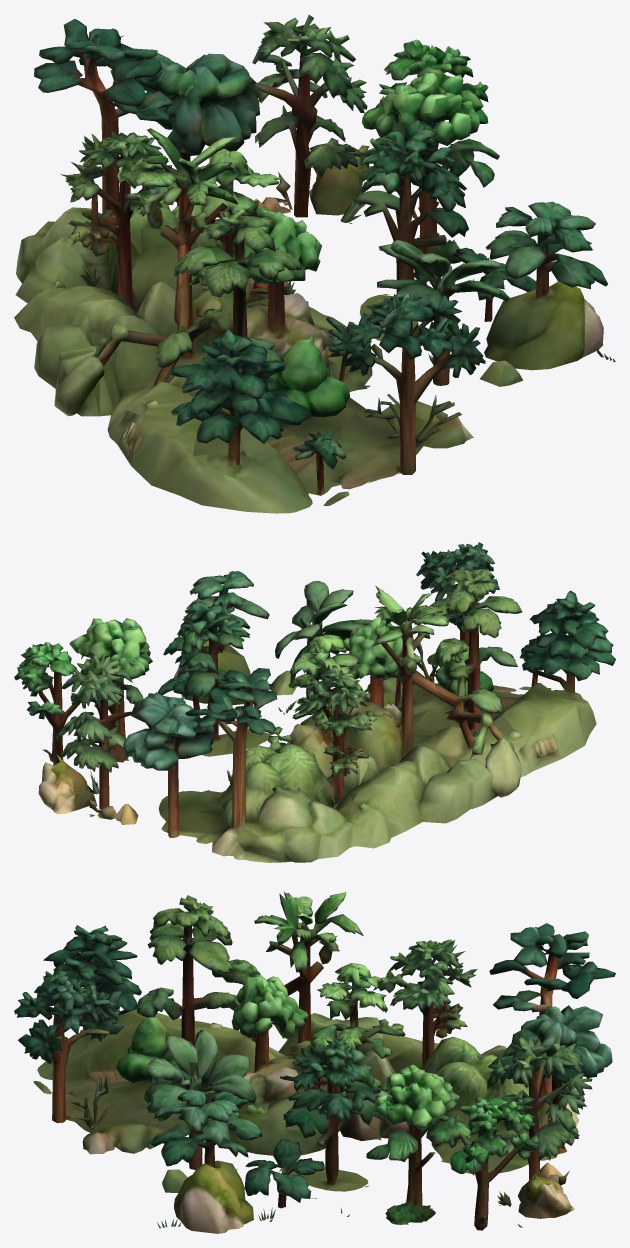
The model's file is woodland.glb.
3 views of the same model, one above another, from view 1: azimuth 30°, elevation 25°; view 2: azimuth 150°, elevation 25°; view 3: azimuth 270°, elevation 25° (orthographic). The views are drawn at different scales.
Parts seen in each view (by area): view 1: tripo_node_04ff8adb-0dd9-4964-a3cd-e81f65a441ff; view 2: tripo_node_04ff8adb-0dd9-4964-a3cd-e81f65a441ff; view 3: tripo_node_04ff8adb-0dd9-4964-a3cd-e81f65a441ff.
Part boxes in pixels (x1=…): tripo_node_04ff8adb-0dd9-4964-a3cd-e81f65a441ff: x1=14, y1=15, x2=615, y2=513; tripo_node_04ff8adb-0dd9-4964-a3cd-e81f65a441ff: x1=14, y1=542, x2=615, y2=862; tripo_node_04ff8adb-0dd9-4964-a3cd-e81f65a441ff: x1=14, y1=891, x2=615, y2=1233.
Bounding box in the file's own units: 23.44 × 9.74 × 27.41.
1 material, 1 textured.
